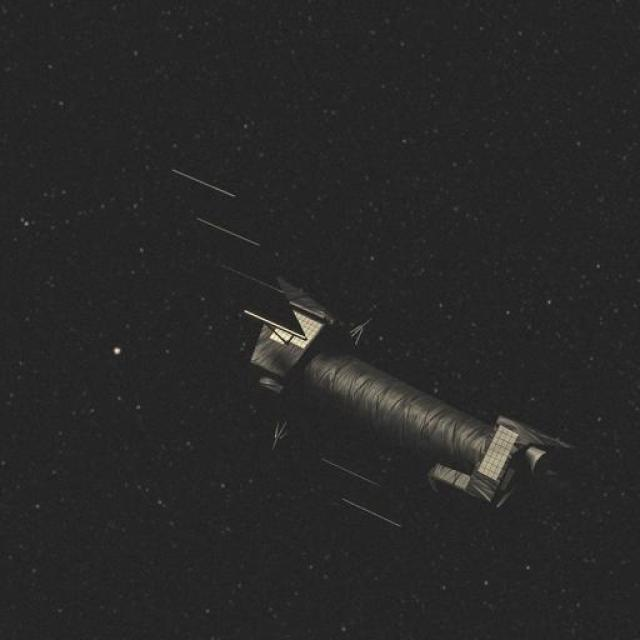xmm_newton: (155, 179, 572, 509)
